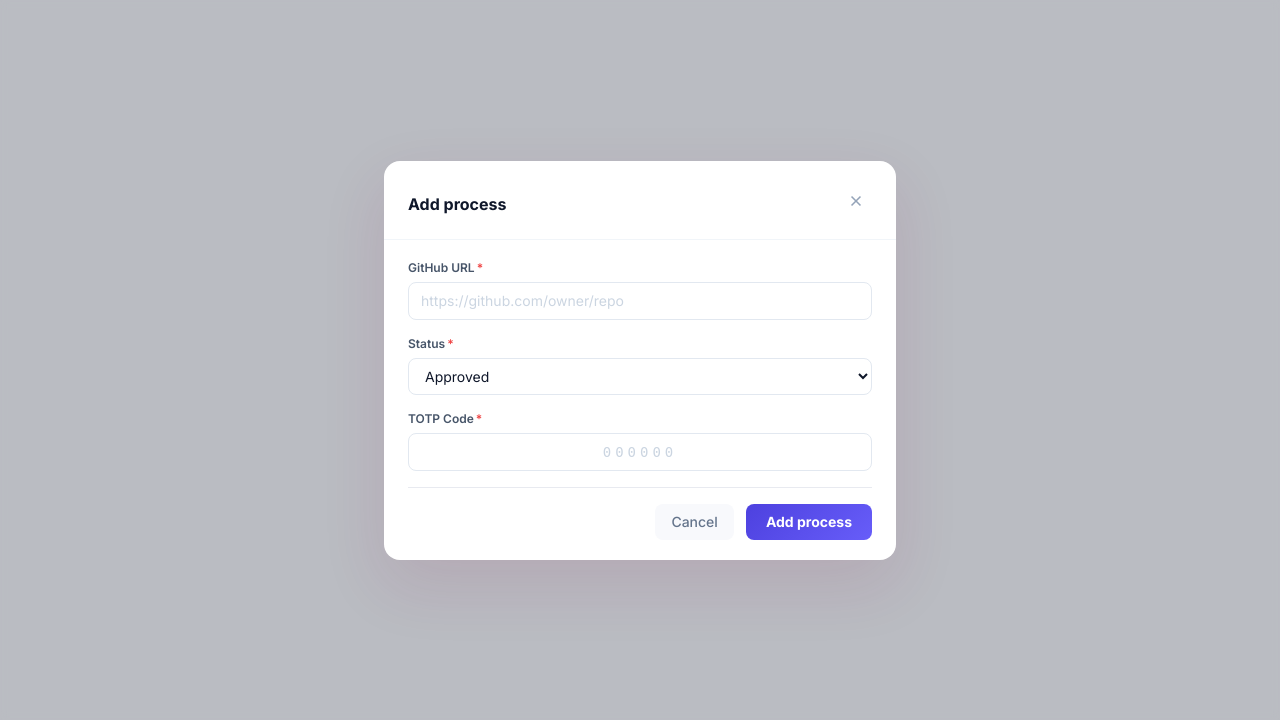
Scenario: MarketplaceAddModal › shows the totpDigitsRequired message for a short code
Type "https://github.com/datasharingframework/dsf" into the field with placeholder "https://github.com/owner/repo" at x=640, y=300, box [408,282,872,320]
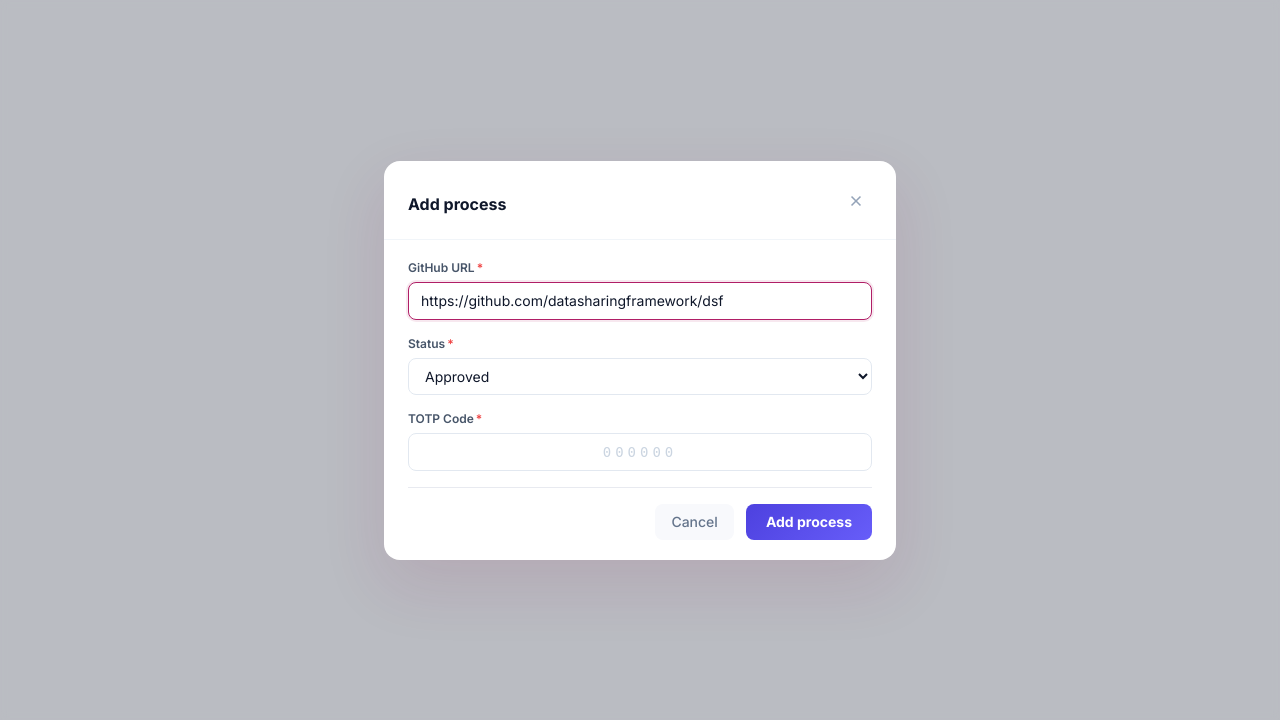
Type "123" into the field with placeholder "000000" at x=640, y=452, box [408,432,872,470]
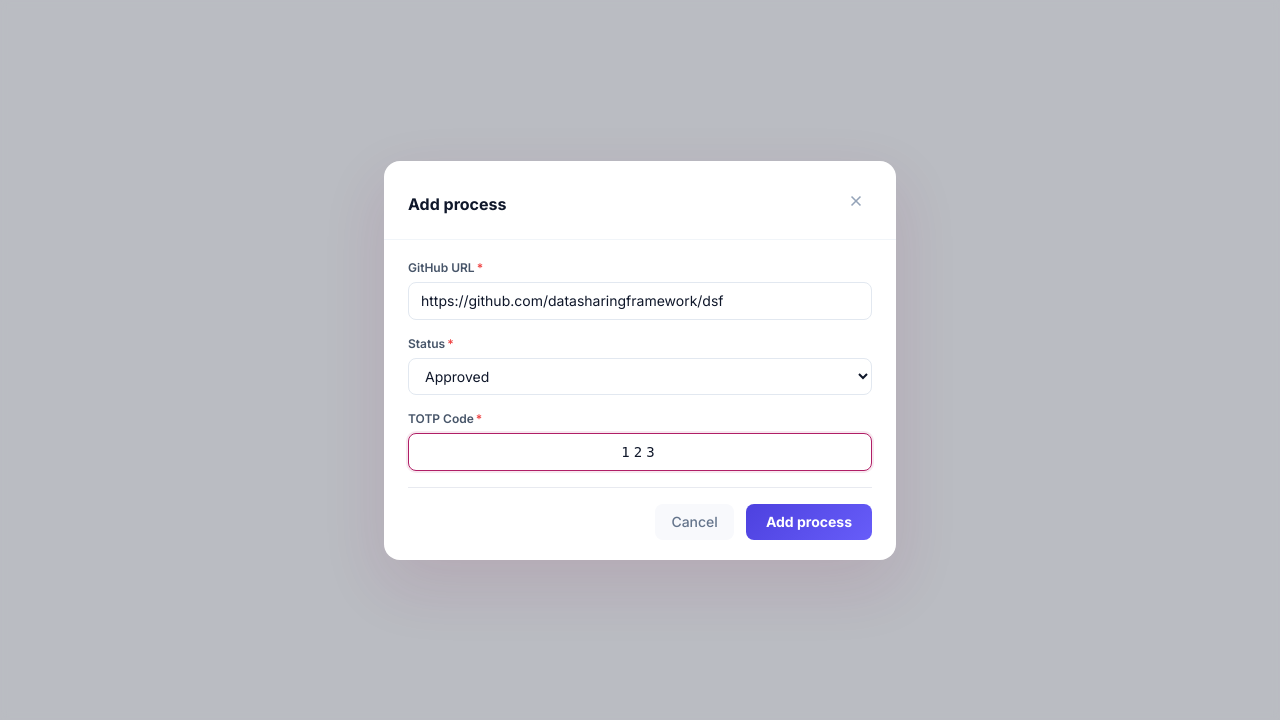
Click the button "Add process" at x=809, y=522, box [746,504,872,540]
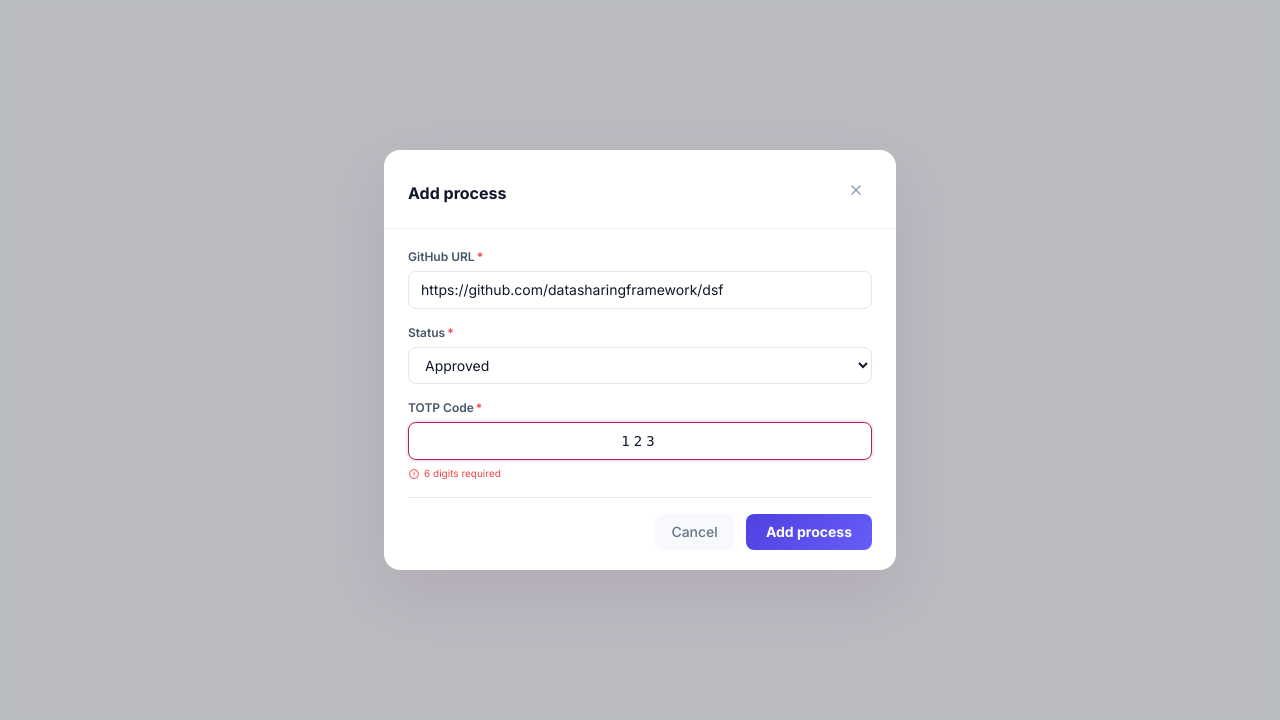
Expected: the text "6 digits required" is shown, [408,466,501,480]
